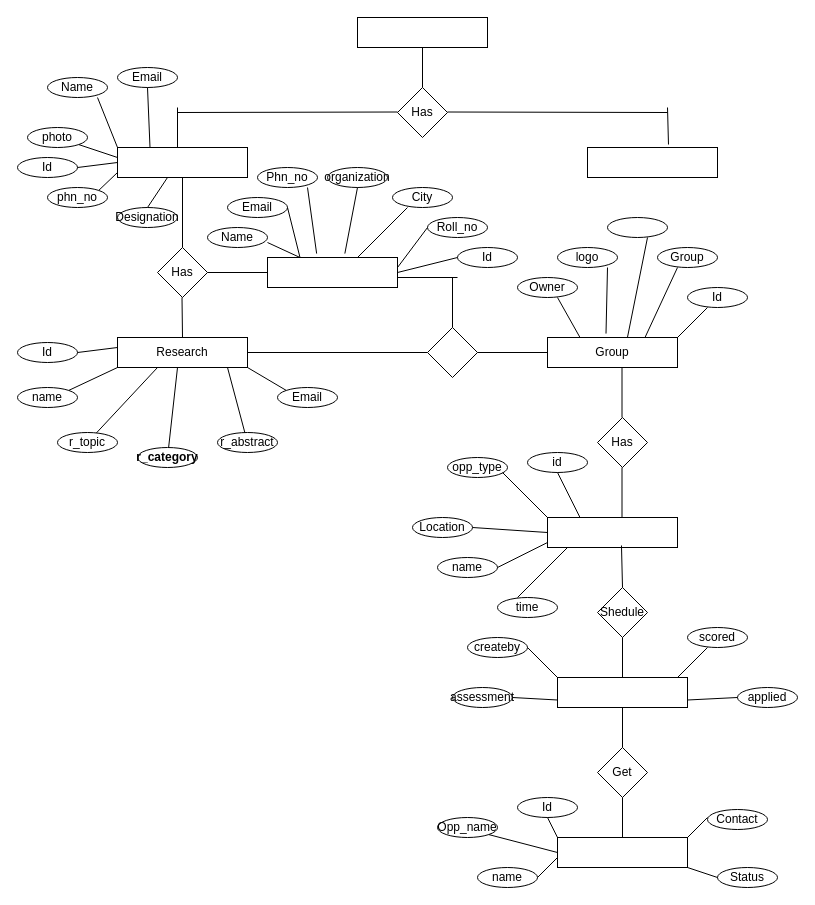
The diagram is 815 pixels wide and 905 high, and some of its shapes have lost their labels. Each missing label, with the box of its shape:
Admin: (586, 146, 718, 178)
Application: (556, 836, 688, 868)
Create: (426, 326, 478, 378)
Ideation: (266, 256, 398, 288)
Interview: (556, 676, 688, 708)
Opportunity: (546, 516, 678, 548)
PassionFrameWork: (356, 16, 488, 48)
T_value: (606, 216, 668, 238)
User: (116, 146, 248, 178)
